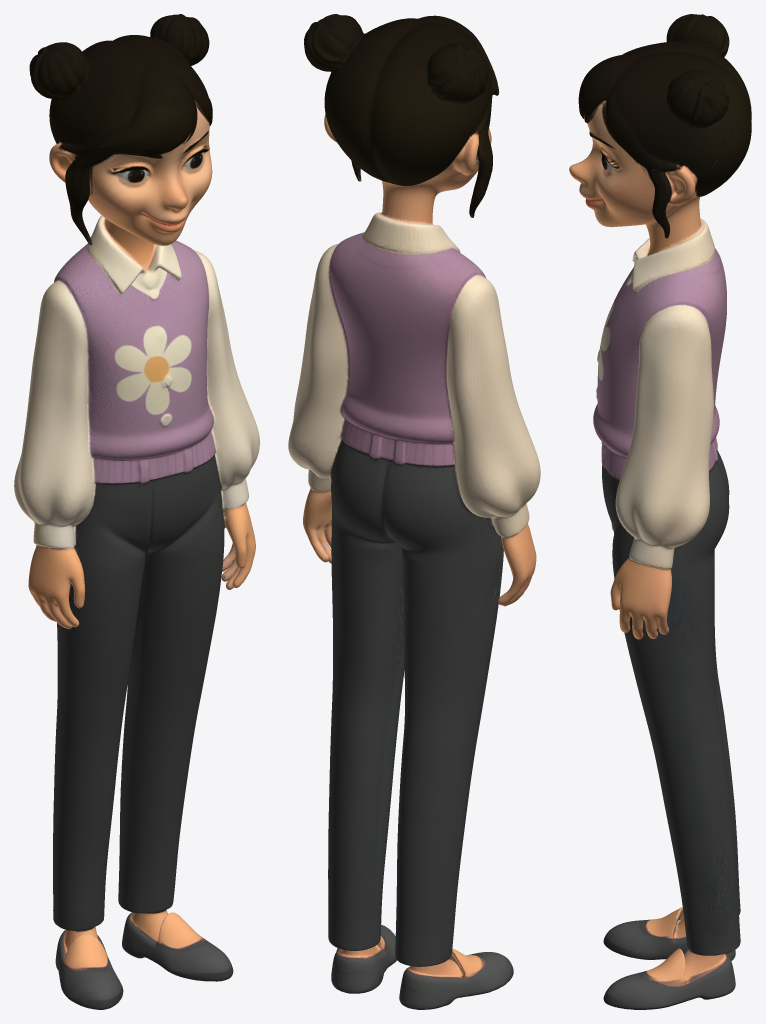
Rendered from Francisca_NPC_Meshy.glb.
3 renders of one model, left to right at view 1: azimuth 30°, elevation 25°; view 2: azimuth 150°, elevation 25°; view 3: azimuth 270°, elevation 25°, orthographic. The views are drawn at different scales.
Visible parts, largest first — view 1: Mesh_0.002; view 2: Mesh_0.002; view 3: Mesh_0.002.
Part boxes in pixels (<box>): Mesh_0.002: <box>14,14,259,1009</box>; Mesh_0.002: <box>288,14,540,1009</box>; Mesh_0.002: <box>569,14,751,1009</box>.
Bounding box in the file's own units: 0.4464 × 1.7 × 0.3023.
Materials: 1 (1 with a texture image).
